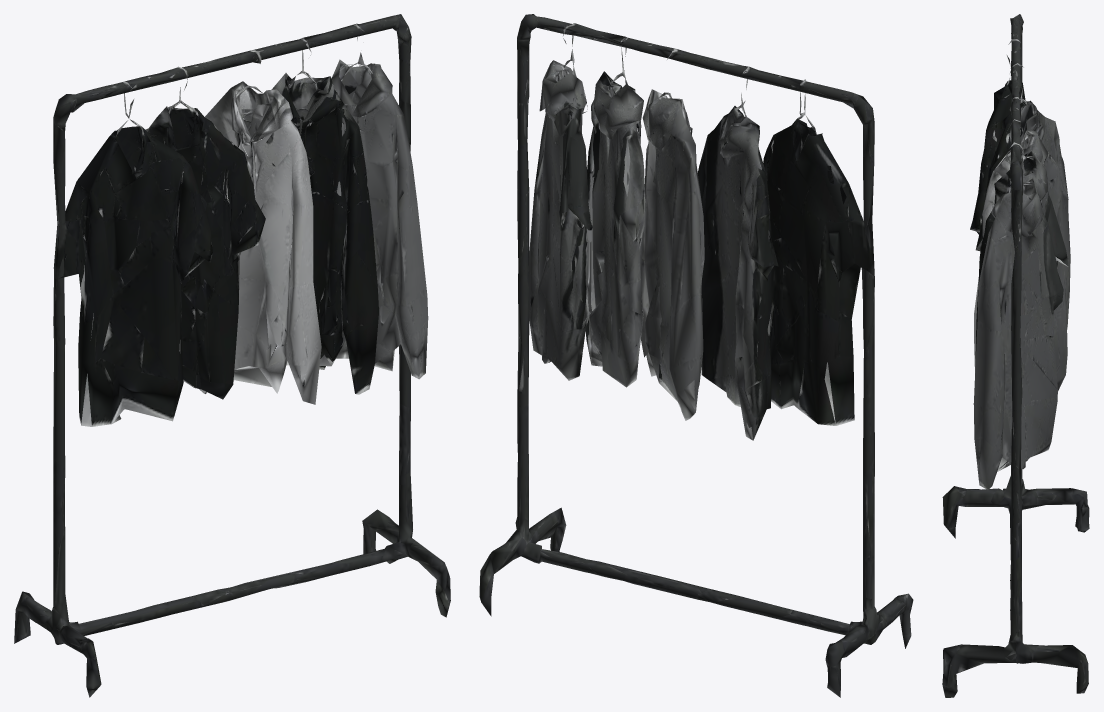
The model's file is mobile.glb.
3 renders of one model, left to right at view 1: azimuth 30°, elevation 25°; view 2: azimuth 150°, elevation 25°; view 3: azimuth 270°, elevation 25°, orthographic. The views are drawn at different scales.
Visible parts, largest first — view 1: d-clothesrack; view 2: d-clothesrack; view 3: d-clothesrack.
Part boxes in pixels (x1,y1,x2,y2): d-clothesrack: [14, 14, 450, 697]; d-clothesrack: [479, 14, 913, 697]; d-clothesrack: [942, 14, 1089, 697].
Size of the model in its own units: 0.9971 by 1.52 by 0.3809.
Materials: 1 (1 with a texture image).
